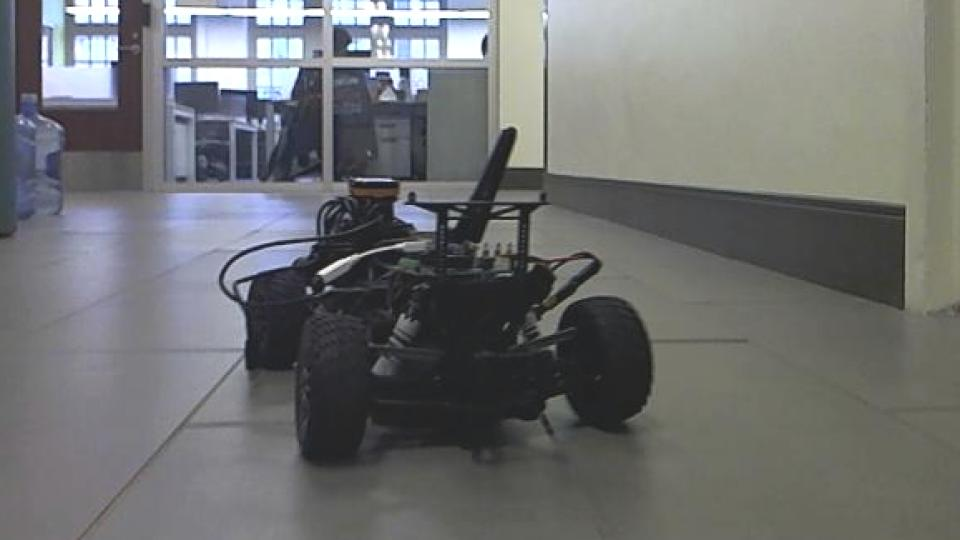car: (219, 124, 658, 468)
